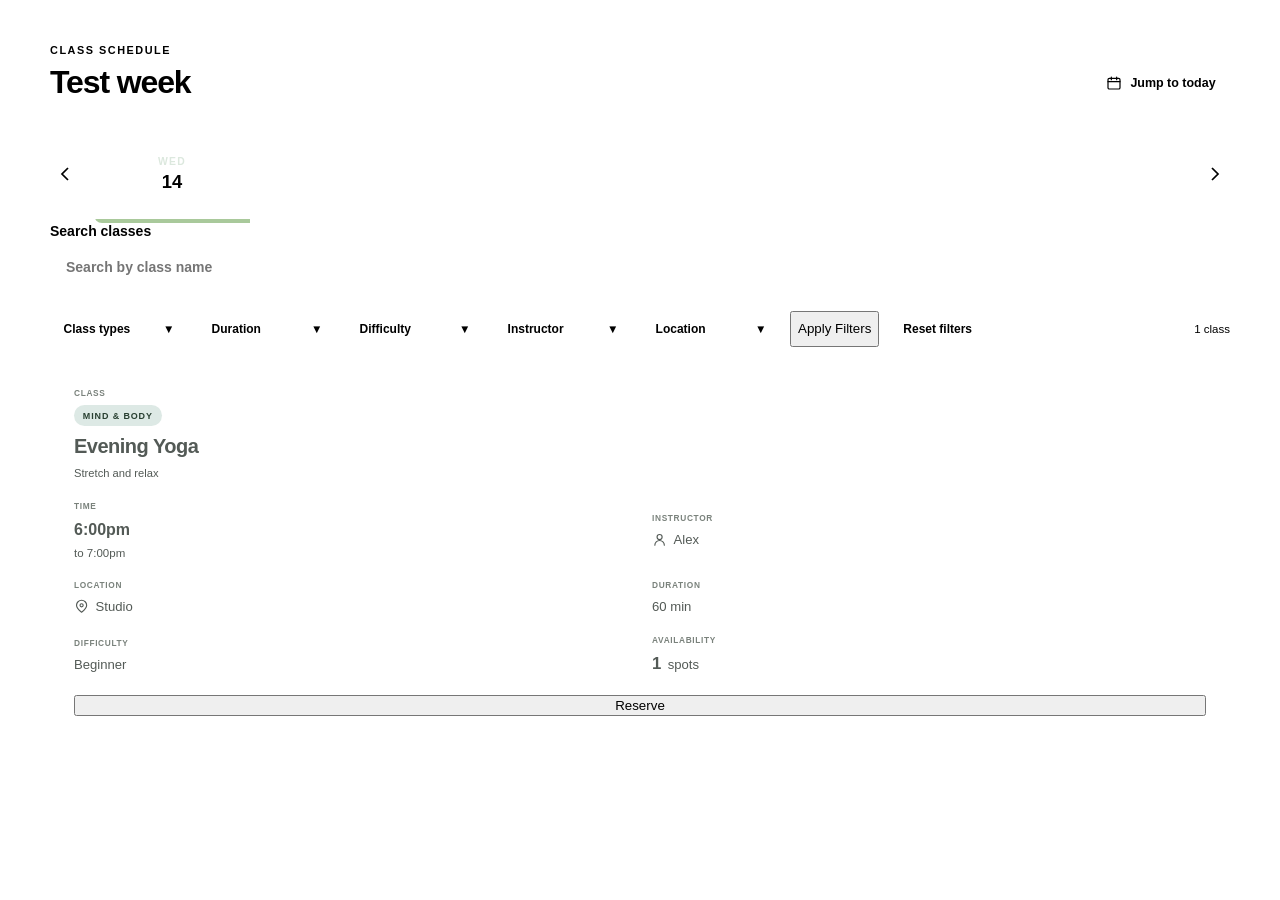
Test: refreshes availability and explains a rejected booking (409, This class is full.)
The image size is (1280, 900).
Click the button "Reserve": (640, 705) [74, 695, 1206, 716]
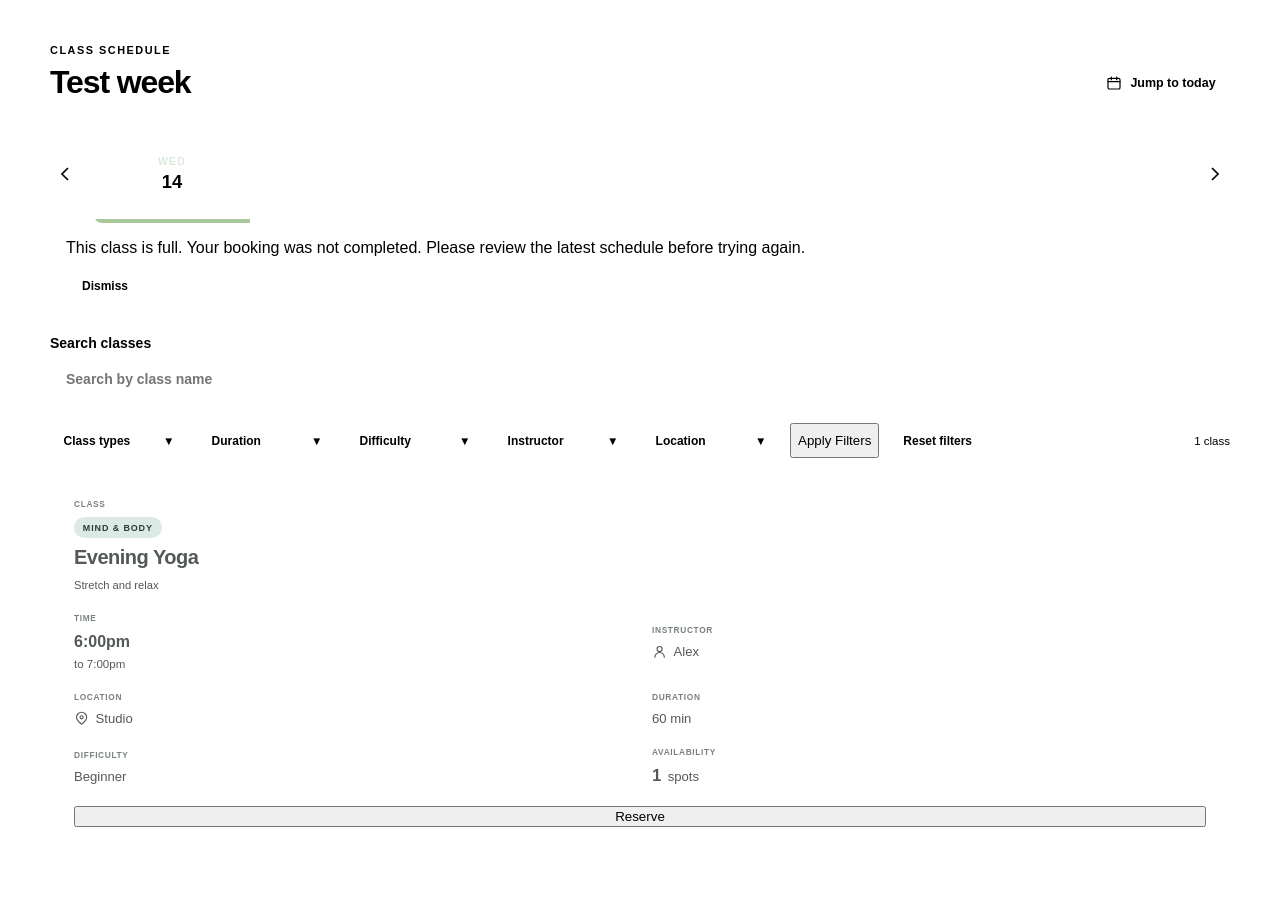
Expected: the 1st message shows "This class is full.", [66, 239, 805, 256]
Expected: the 1st message shows "Your booking was not completed.", [66, 239, 805, 256]
